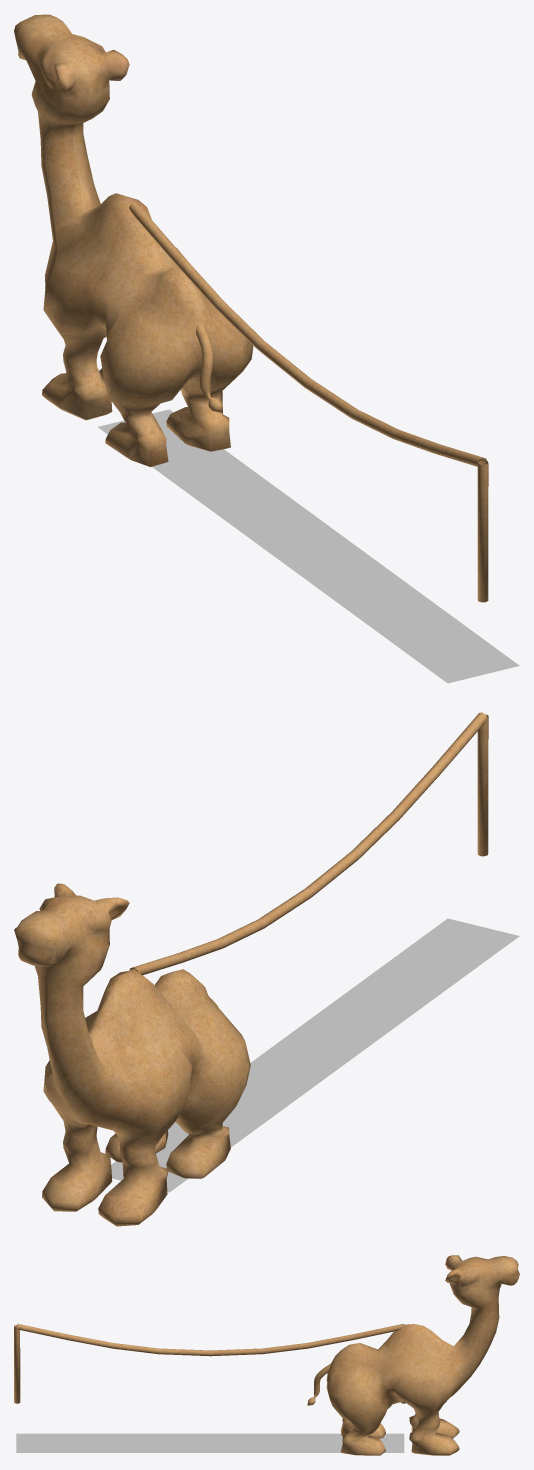
Rendered from StartinglineGate_LOD0.fbx.
The picture shows the model from 3 angles, top to bottom: view 1: azimuth 30°, elevation 25°; view 2: azimuth 150°, elevation 25°; view 3: azimuth 270°, elevation 25°; orthographic projection. The views are drawn at different scales.
Parts seen in each view (by area): view 1: StartinglineGate_Camel_LOD0, StartinglineGate_Ground, StartinglineGate_Rope_LOD0; view 2: StartinglineGate_Camel_LOD0, StartinglineGate_Ground, StartinglineGate_Rope_LOD0; view 3: StartinglineGate_Camel_LOD0, StartinglineGate_Ground, StartinglineGate_Rope_LOD0.
Part boxes in pixels (x1=…): StartinglineGate_Camel_LOD0: x1=14, y1=14, x2=253, y2=466; StartinglineGate_Ground: x1=98, y1=409, x2=519, y2=683; StartinglineGate_Rope_LOD0: x1=129, y1=202, x2=488, y2=602; StartinglineGate_Camel_LOD0: x1=14, y1=883, x2=250, y2=1226; StartinglineGate_Ground: x1=111, y1=918, x2=519, y2=1192; StartinglineGate_Rope_LOD0: x1=129, y1=712, x2=488, y2=975; StartinglineGate_Camel_LOD0: x1=307, y1=1255, x2=519, y2=1455; StartinglineGate_Ground: x1=16, y1=1433, x2=404, y2=1452; StartinglineGate_Rope_LOD0: x1=14, y1=1324, x2=405, y2=1403.
Bounding box in the file's own units: 141 × 332 × 826.
